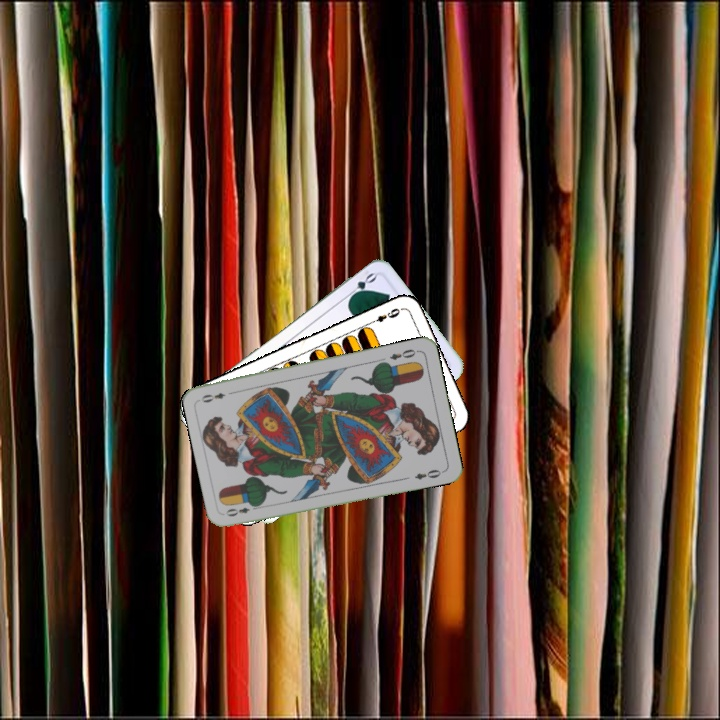E9: (365, 304, 403, 327)
EO: (222, 500, 262, 519), (385, 345, 421, 362)
GO: (343, 268, 379, 302)
